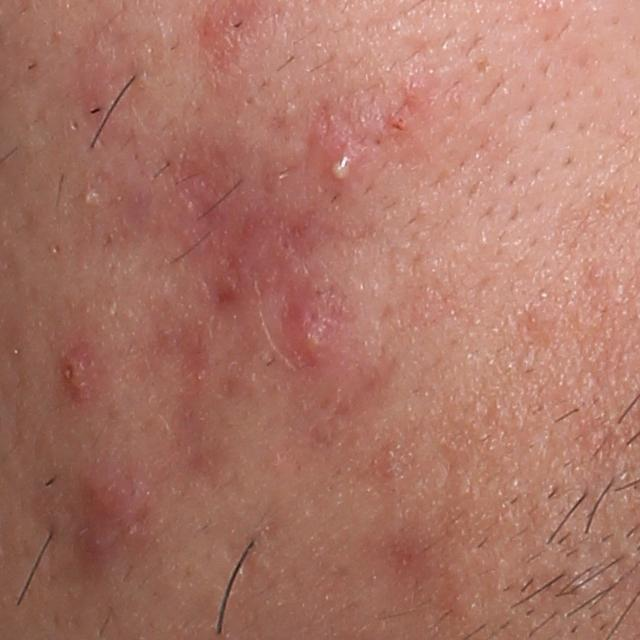papule: (284, 290, 346, 369), (80, 465, 136, 526), (60, 346, 97, 401)
pustule: (324, 151, 361, 186)
